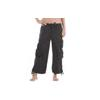pantaloni: (32, 23, 62, 74)
